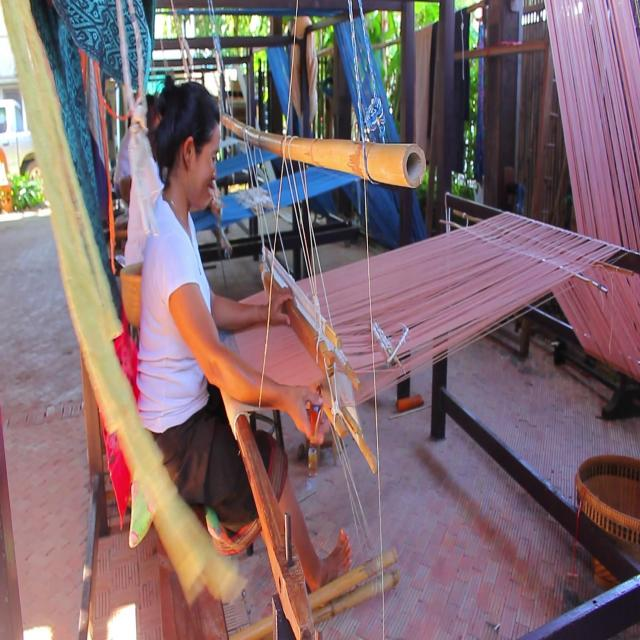not-gloved: (287, 384, 332, 446), (268, 287, 296, 327)
